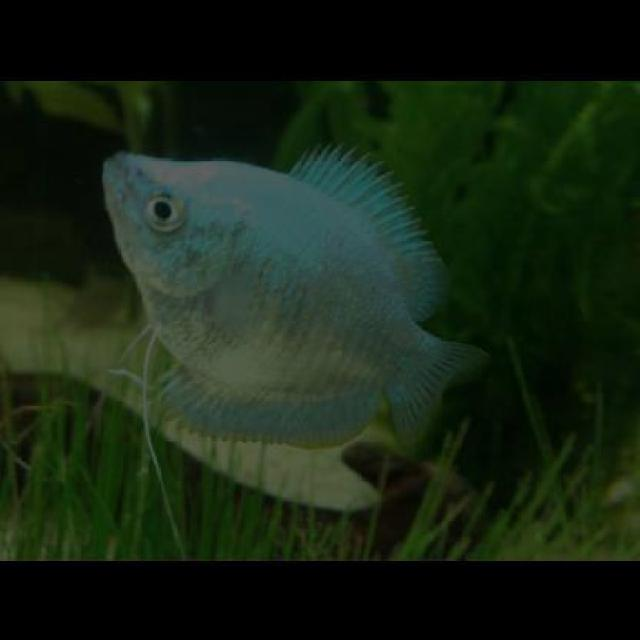Gourami: (103, 144, 482, 450)
